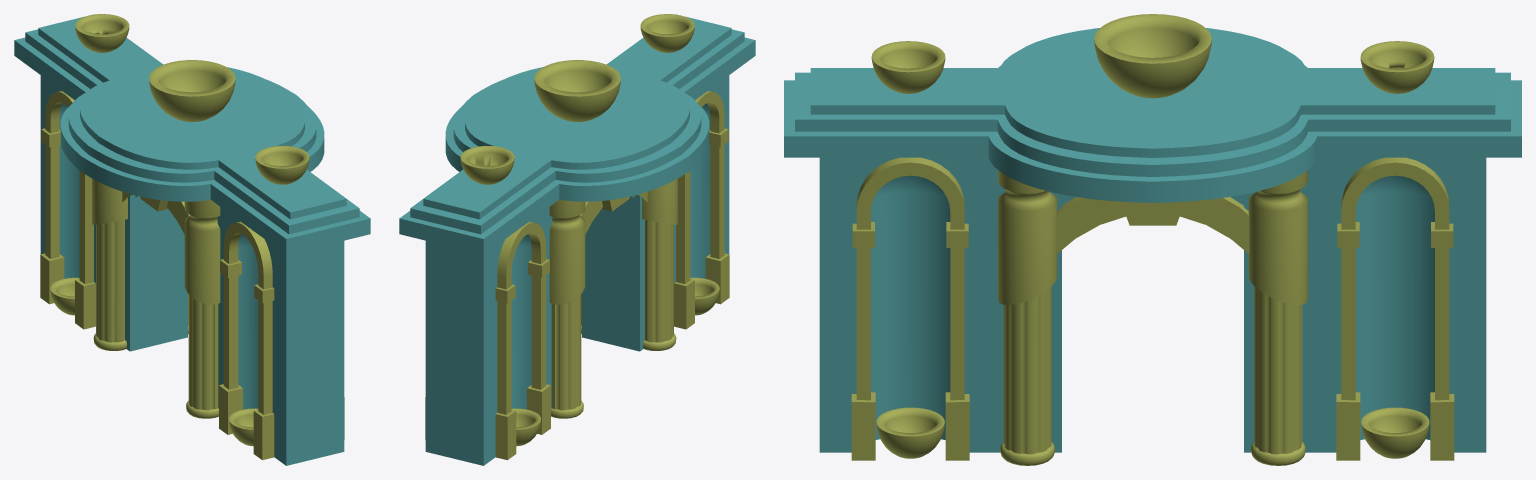
Rendered from SM_Building_Gate.fbx.
3 views of the same model, side by side, from view 1: azimuth 30°, elevation 25°; view 2: azimuth 150°, elevation 25°; view 3: azimuth 270°, elevation 25° (orthographic). The views are drawn at different scales.
Visible parts, largest first — view 1: Gate_05_Low1; view 2: Gate_05_Low1; view 3: Gate_05_Low1.
Boxes of the visible parts, left/top/right/bottom form: Gate_05_Low1: left=14, top=14, right=370, bottom=465; Gate_05_Low1: left=399, top=14, right=755, bottom=465; Gate_05_Low1: left=784, top=14, right=1521, bottom=465.
Bounding box in the file's own units: 574 × 721 × 1218.
